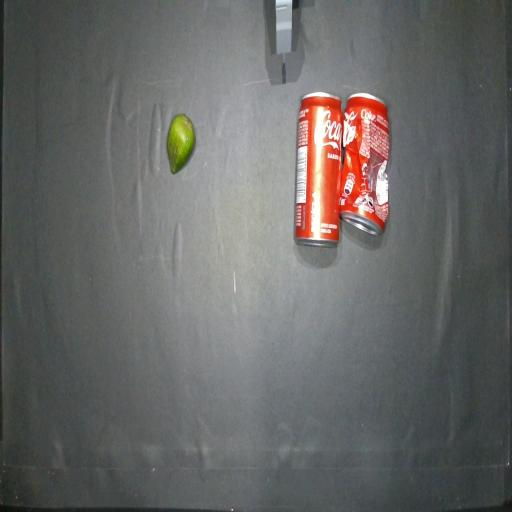higo: (167, 114, 195, 174)
lata: (294, 92, 342, 247)
lata_defectuoso: (339, 93, 389, 234)
